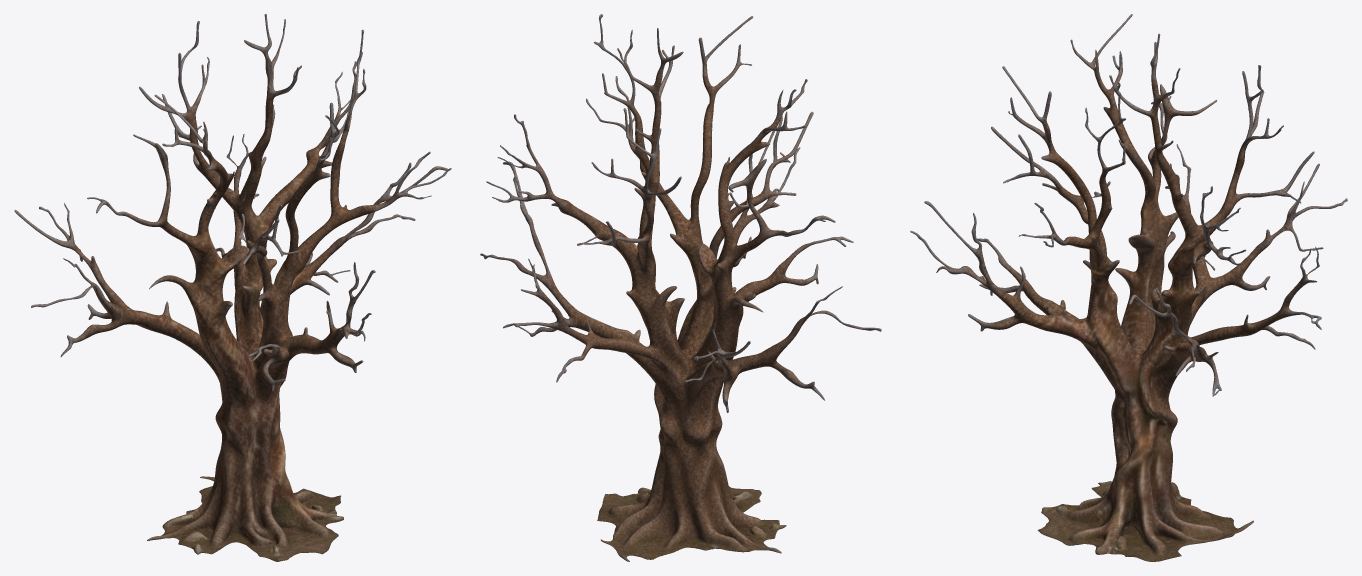
Rendered from Arvore_6.glb.
3 renders of one model, left to right at view 1: azimuth 30°, elevation 25°; view 2: azimuth 150°, elevation 25°; view 3: azimuth 270°, elevation 25°, orthographic.
Size of the model in its own units: 1.58 by 1.89 by 1.5.
1 material, 1 textured.
